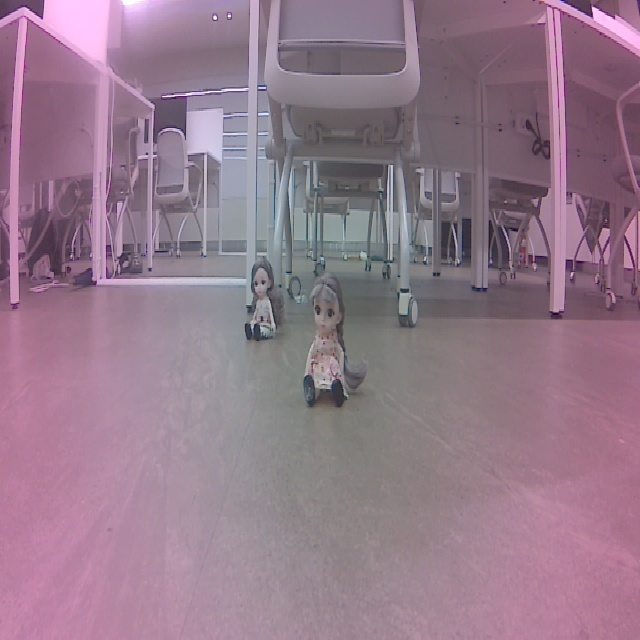장애물: (377, 250, 440, 384), (299, 238, 351, 319)
